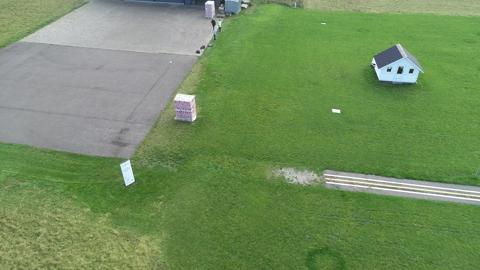RockwoolPallet: (173, 93, 198, 122)
